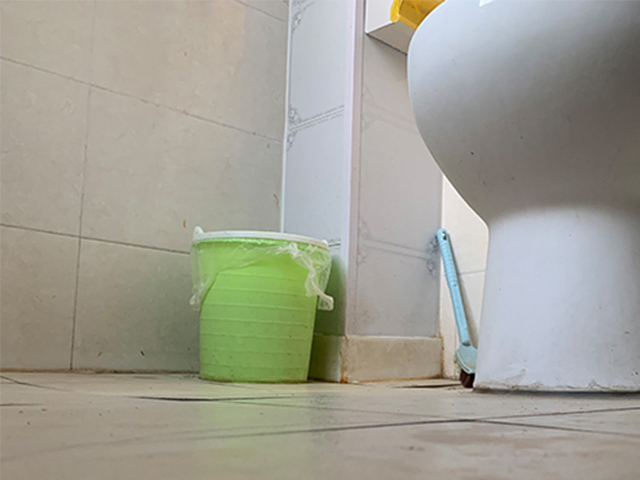closestool: (405, 1, 640, 392)
trashcan: (189, 226, 331, 385)
